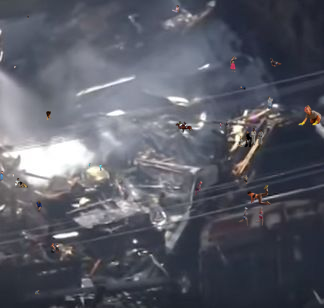Human: (237, 128, 264, 147), (298, 105, 322, 126), (238, 207, 264, 226), (247, 185, 271, 205), (175, 121, 194, 133), (194, 181, 203, 200), (15, 178, 28, 188), (230, 56, 237, 72), (220, 121, 236, 128), (88, 163, 102, 171), (0, 171, 11, 181), (270, 58, 282, 67), (50, 243, 60, 253), (267, 96, 273, 109), (36, 200, 42, 212), (172, 5, 180, 13), (243, 175, 249, 184), (46, 111, 52, 120), (238, 85, 246, 90), (35, 290, 41, 295), (24, 15, 29, 19), (12, 173, 14, 178), (14, 65, 16, 69), (210, 159, 212, 162), (111, 85, 112, 87), (120, 254, 121, 255)
